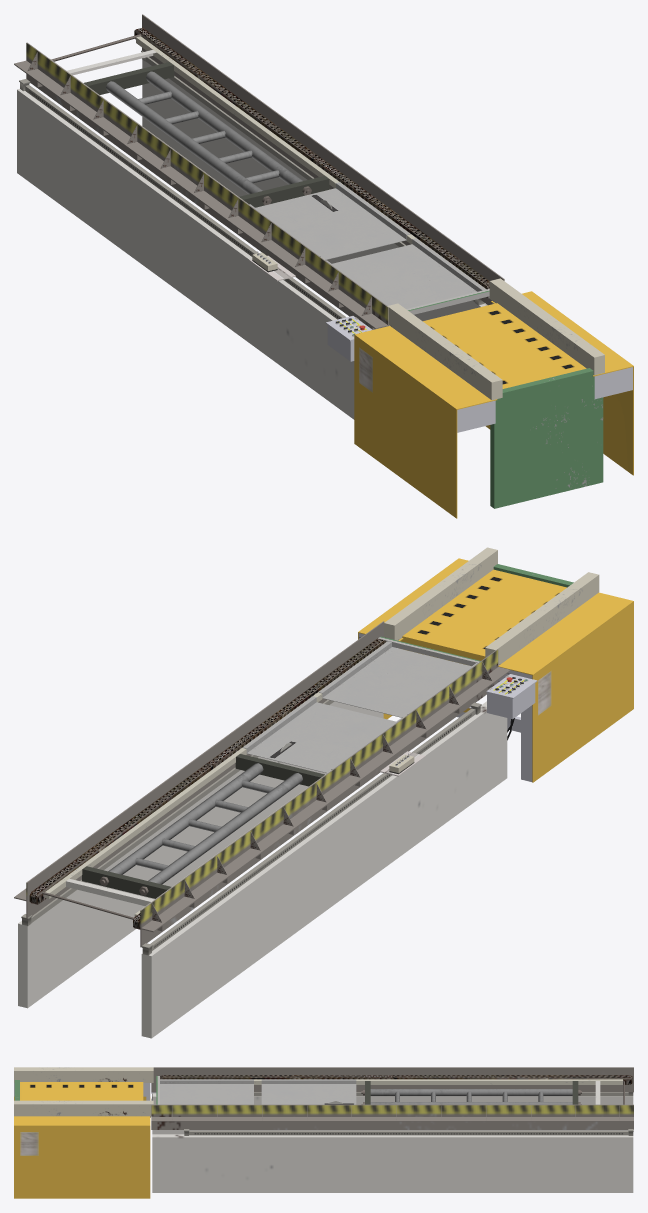
The model's file is guiji01.FBX.
3 views of the same model, one above another, from view 1: azimuth 30°, elevation 25°; view 2: azimuth 150°, elevation 25°; view 3: azimuth 270°, elevation 25° (orthographic). The views are drawn at different scales.
Visible parts, largest first — view 1: YF_Model_guiji01_04, YF_Model_guiji01_01, YF_Model_guiji01_02, YF_Model_guiji01_03; view 2: YF_Model_guiji01_04, YF_Model_guiji01_01, YF_Model_guiji01_02, YF_Model_guiji01_03; view 3: YF_Model_guiji01_04, YF_Model_guiji01_01, YF_Model_guiji01_02.
Boxes of the visible parts, bbox=[...] form: YF_Model_guiji01_04: bbox=[14, 14, 504, 419]; YF_Model_guiji01_01: bbox=[354, 278, 633, 518]; YF_Model_guiji01_02: bbox=[84, 62, 329, 207]; YF_Model_guiji01_03: bbox=[325, 316, 372, 361]; YF_Model_guiji01_04: bbox=[14, 621, 510, 1038]; YF_Model_guiji01_01: bbox=[358, 547, 633, 782]; YF_Model_guiji01_02: bbox=[82, 754, 324, 898]; YF_Model_guiji01_03: bbox=[486, 674, 537, 740]; YF_Model_guiji01_04: bbox=[151, 1067, 633, 1192]; YF_Model_guiji01_01: bbox=[14, 1067, 153, 1198]; YF_Model_guiji01_02: bbox=[361, 1081, 581, 1104].
Bounding box in the file's own units: 58.55 × 39.22 × 259.
Materials: 1 (1 with a texture image).
